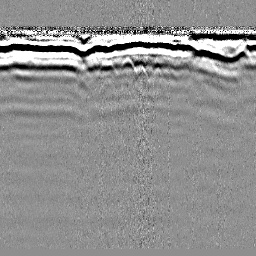cavity: (117, 54, 137, 74)
